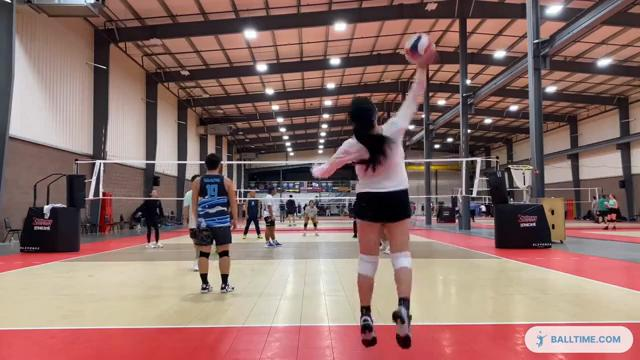battuta: (309, 30, 439, 350)
